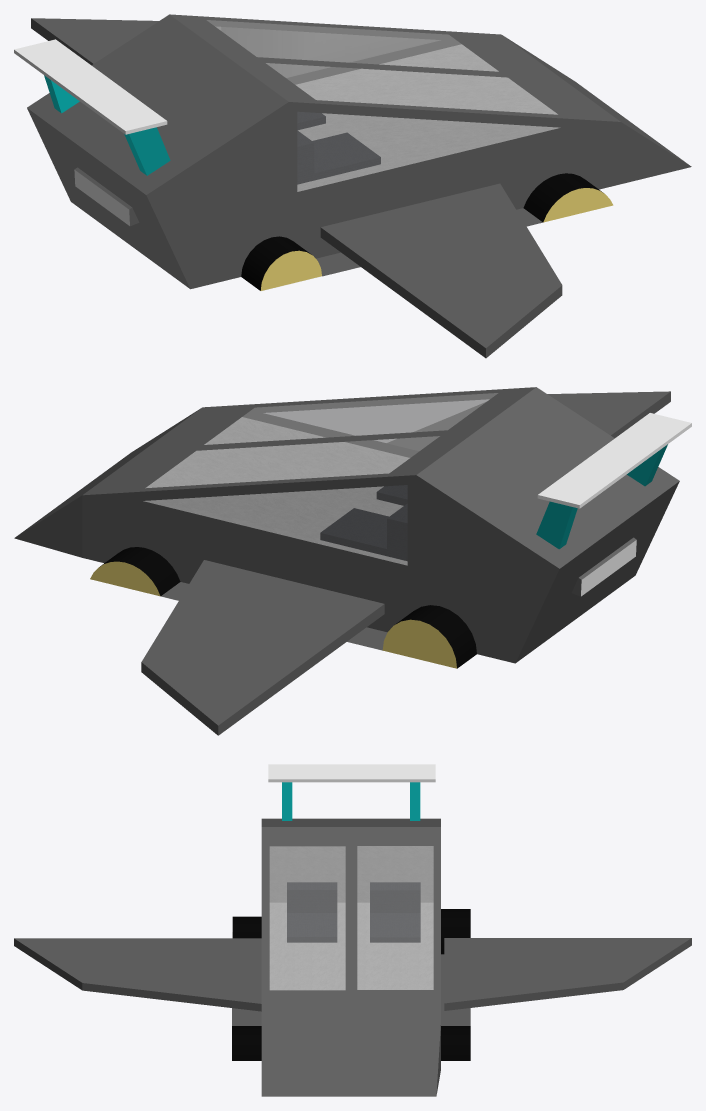
File: hovercar.glb
3 renders of one model, top to bottom at view 1: azimuth 30°, elevation 25°; view 2: azimuth 150°, elevation 25°; view 3: azimuth 270°, elevation 25°, orthographic. The views are drawn at different scales.
Parts seen in each view (by area): view 1: Root Node; view 2: Root Node; view 3: Root Node.
Boxes of the visible parts, <box> form: Root Node: <box>14,14,691,358</box>; Root Node: <box>14,387,691,735</box>; Root Node: <box>14,764,691,1096</box>.
Size of the model in its own units: 6.24 by 1.8 by 8.7.
